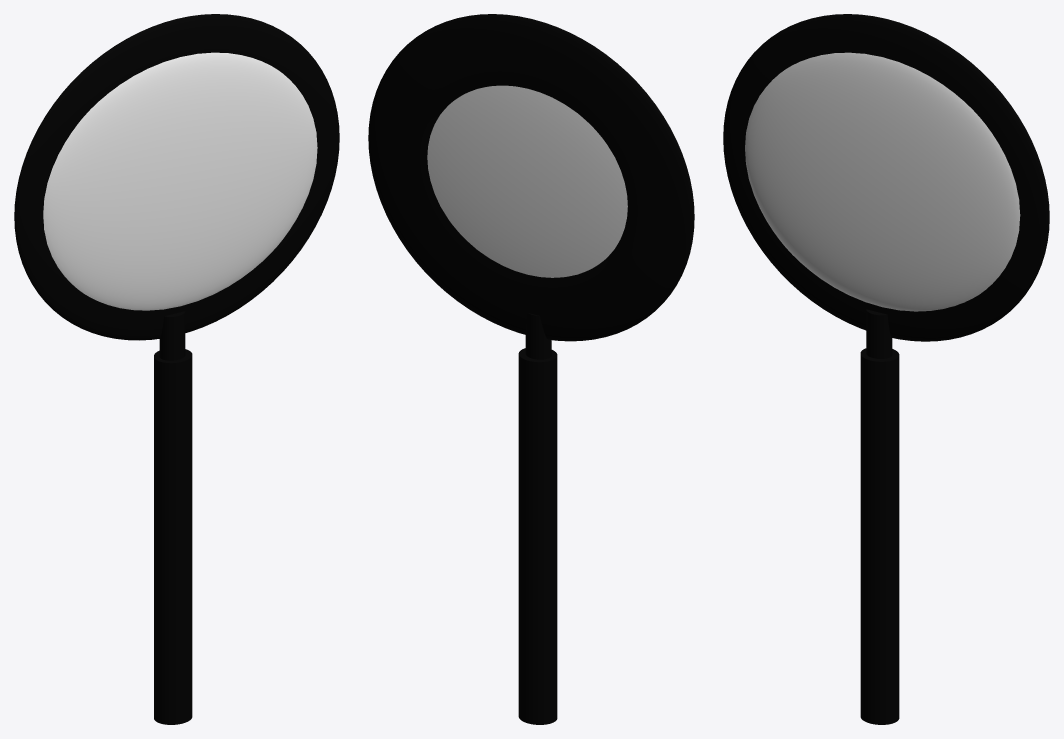
File: Lupe.fbx
The picture shows the model from 3 angles, left to right: view 1: azimuth 30°, elevation 25°; view 2: azimuth 150°, elevation 25°; view 3: azimuth 330°, elevation 25°; orthographic projection.
Parts seen in each view (by area): view 1: root (×4); view 2: root (×4); view 3: root (×4).
Boxes of the visible parts, box(x1,y1,x2,y2) form: root (×4): box(14, 14, 339, 724); root (×4): box(368, 14, 694, 724); root (×4): box(723, 14, 1049, 724).
Bounding box in the file's own units: 0.2586 × 0.529 × 0.0244.
5 materials, 5 textured.
